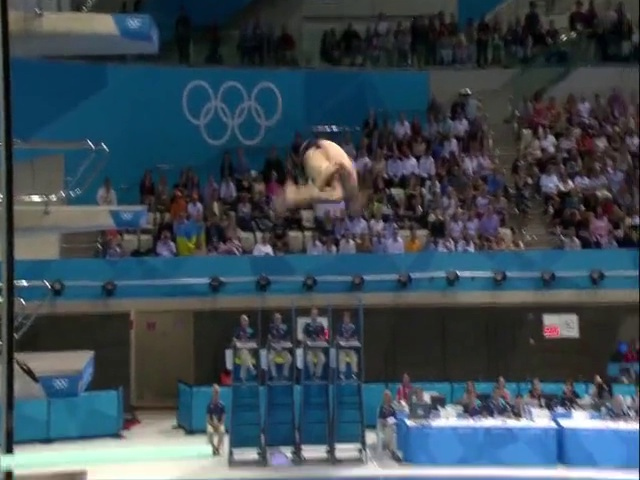diver: (274, 137, 369, 219)
